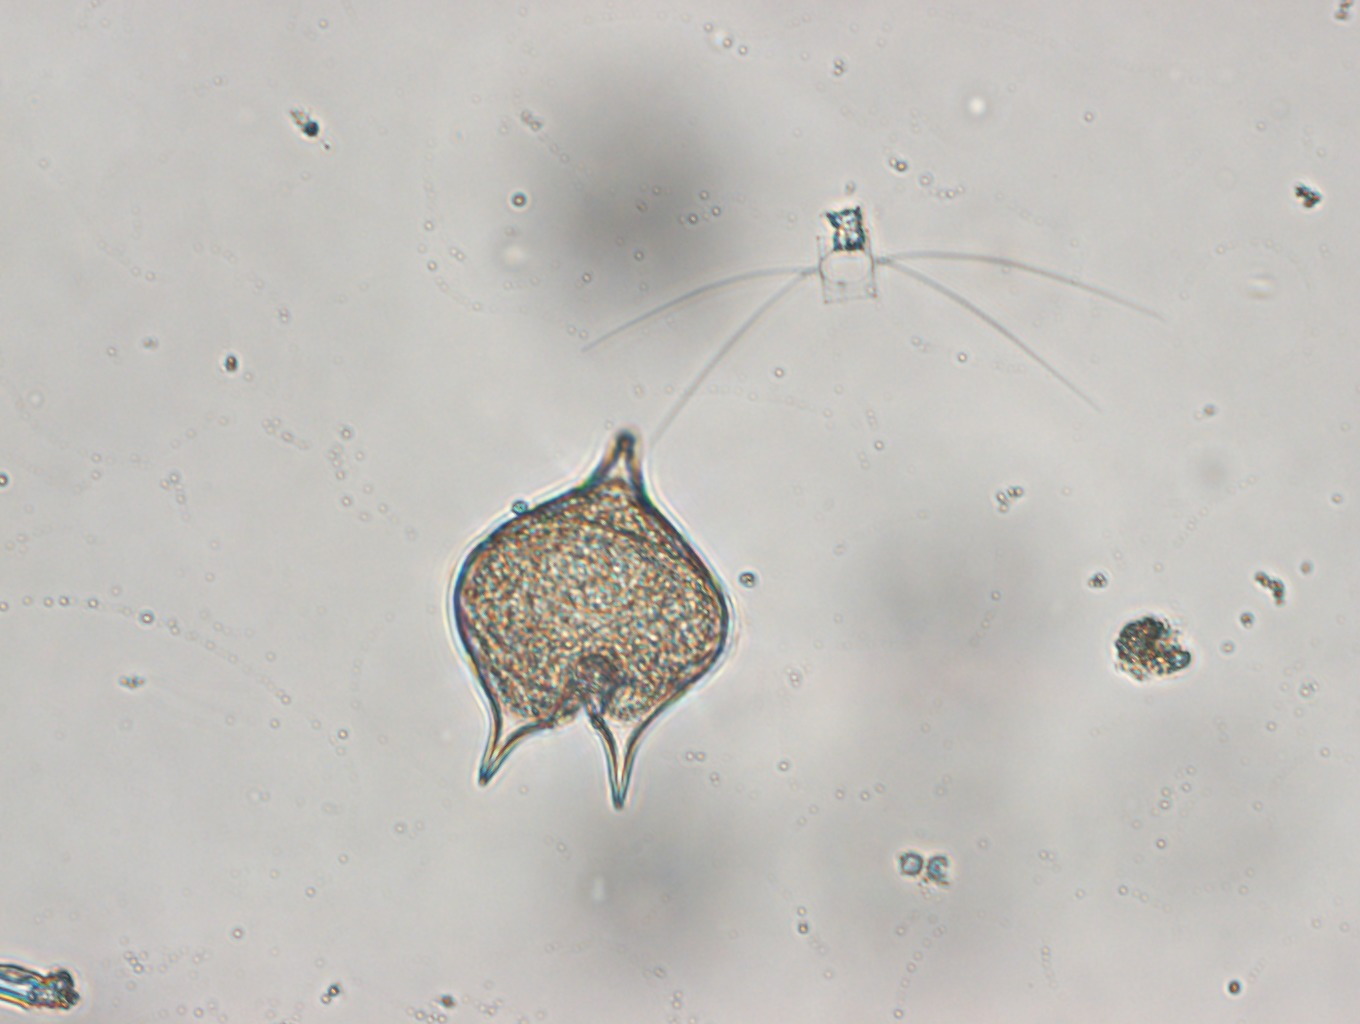chaetoceros: (579, 203, 1172, 428)
protoperidinium: (449, 427, 729, 813)
